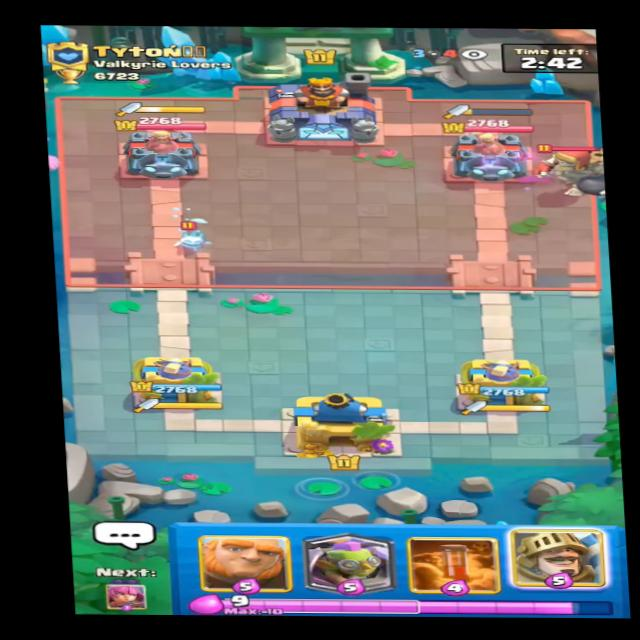Giantskeleton: (531, 139, 629, 195)
Icespirit: (170, 223, 212, 249)
